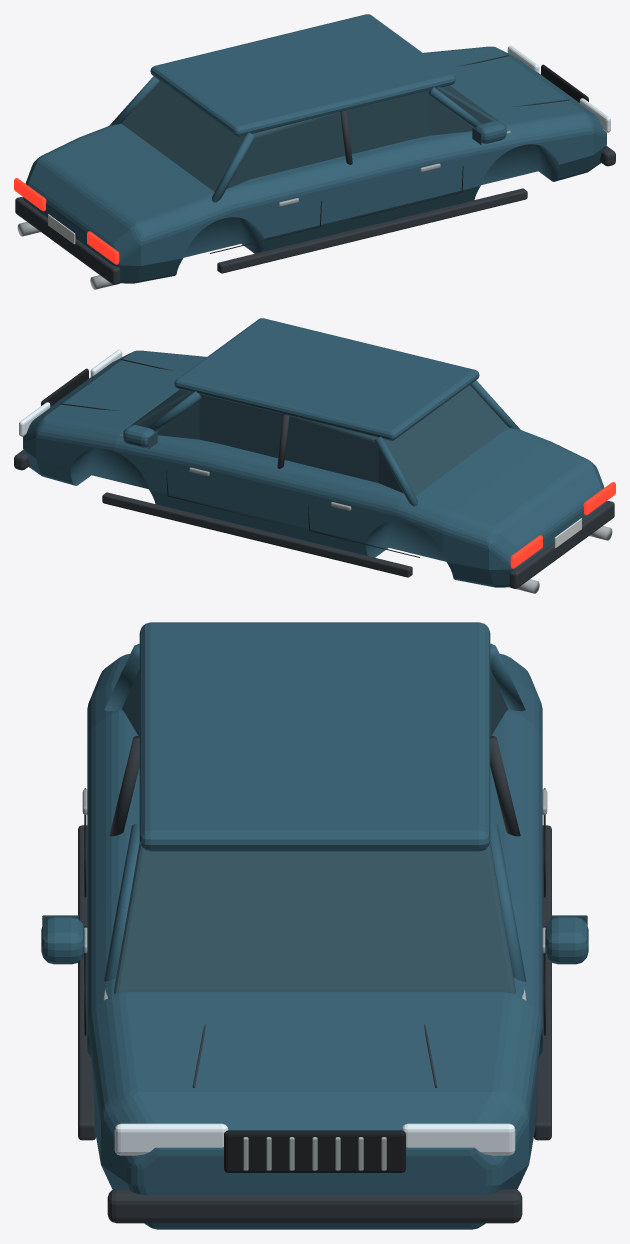
The model's file is SM_Sedan.fbx.
3 renders of one model, top to bottom at view 1: azimuth 30°, elevation 25°; view 2: azimuth 150°, elevation 25°; view 3: azimuth 270°, elevation 25°, orthographic. The views are drawn at different scales.
Visible parts, largest first — view 1: SM_Sedan; view 2: SM_Sedan; view 3: SM_Sedan.
Part boxes in pixels (<box>): SM_Sedan: <box>14,14,615,289</box>; SM_Sedan: <box>14,318,615,593</box>; SM_Sedan: <box>41,622,588,1229</box>.
Size of the model in its own units: 487 by 226 by 120.
